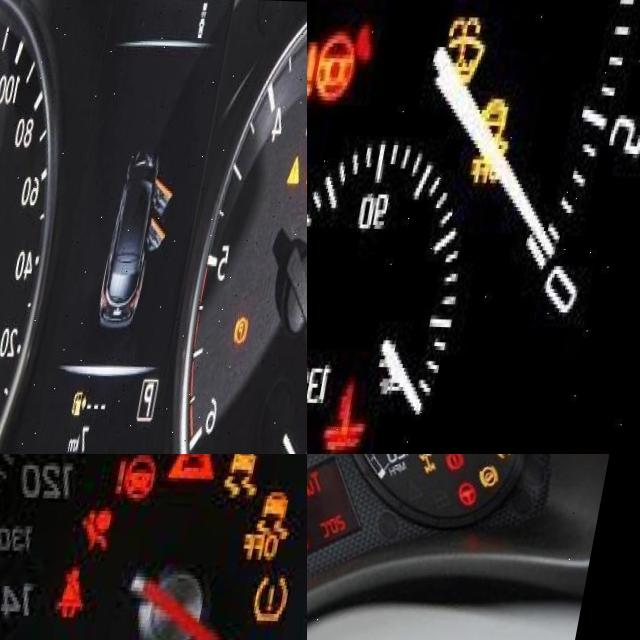Electronic Power Steering: (121, 454, 171, 500)
Electronic Power Steering Warning: (307, 28, 372, 101)
Seat Belt: (72, 568, 103, 617)
Washer Fluid: (435, 15, 496, 87)
